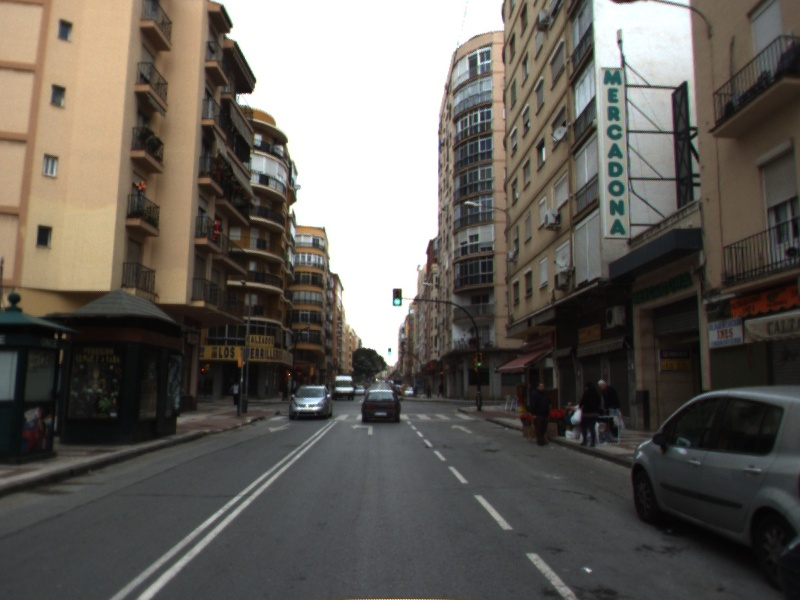LEFT: (349, 422, 375, 437)
STRAIGHT: (449, 423, 474, 435)
